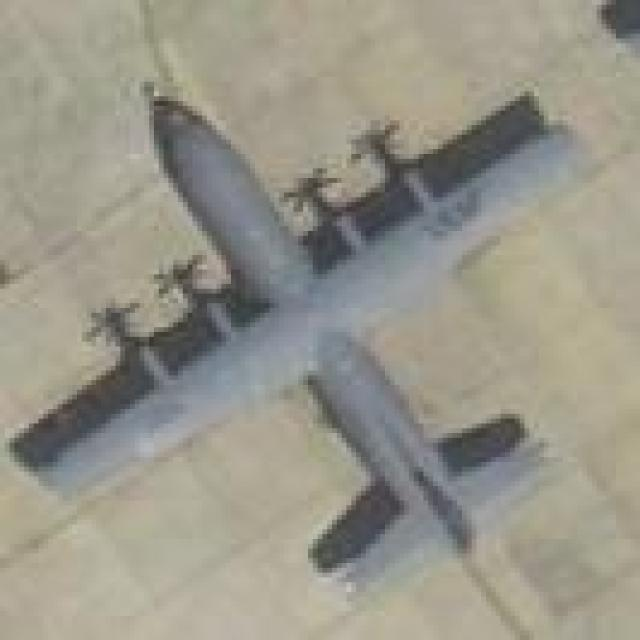C-130_TopDown: (11, 70, 582, 605)
